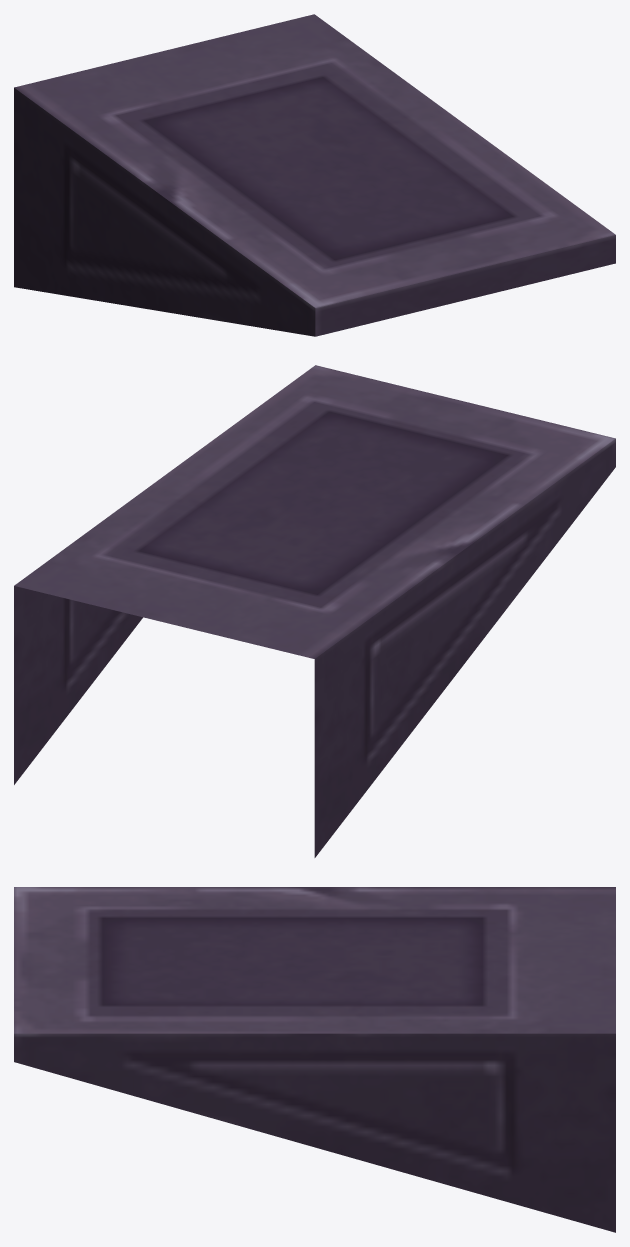
The model's file is Boss_15.FBX.
The picture shows the model from 3 angles, top to bottom: view 1: azimuth 30°, elevation 25°; view 2: azimuth 150°, elevation 25°; view 3: azimuth 270°, elevation 25°; orthographic projection.
Parts seen in each view (by area): view 1: Boss_15; view 2: Boss_15; view 3: Boss_15.
Boxes of the visible parts, x1,y1,x2,y2 form: Boss_15: [14, 14, 615, 336]; Boss_15: [14, 365, 615, 857]; Boss_15: [14, 887, 615, 1232].
Bounding box in the file's own units: 0.4198 × 0.2665 × 0.7294.
